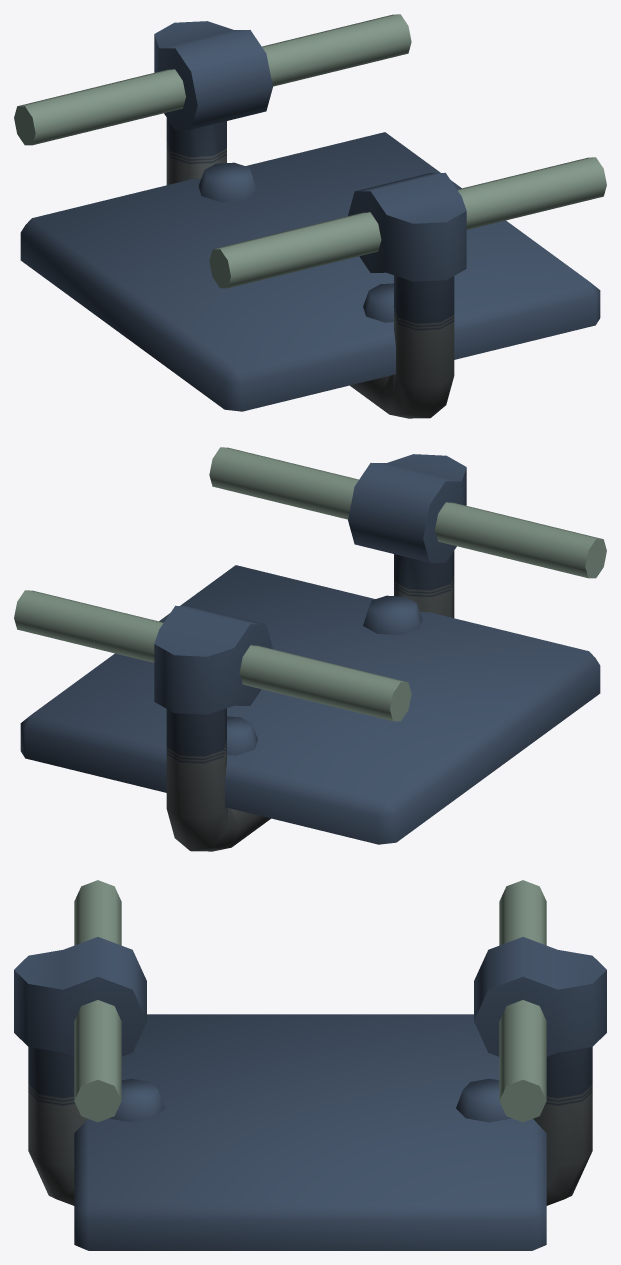
File: factory-kit__catwalk-straight.glb
The picture shows the model from 3 angles, top to bottom: view 1: azimuth 30°, elevation 25°; view 2: azimuth 150°, elevation 25°; view 3: azimuth 270°, elevation 25°; orthographic projection. The views are drawn at different scales.
Parts seen in each view (by area): view 1: catwalk-straight; view 2: catwalk-straight; view 3: catwalk-straight.
Boxes of the visible parts, box(x1,y1,x2,y2) form: catwalk-straight: box(14, 14, 606, 418); catwalk-straight: box(14, 447, 606, 851); catwalk-straight: box(14, 880, 606, 1250).
Size of the model in its own units: 0.9977 by 0.6 by 1.25.
Materials: 1 (1 with a texture image).
